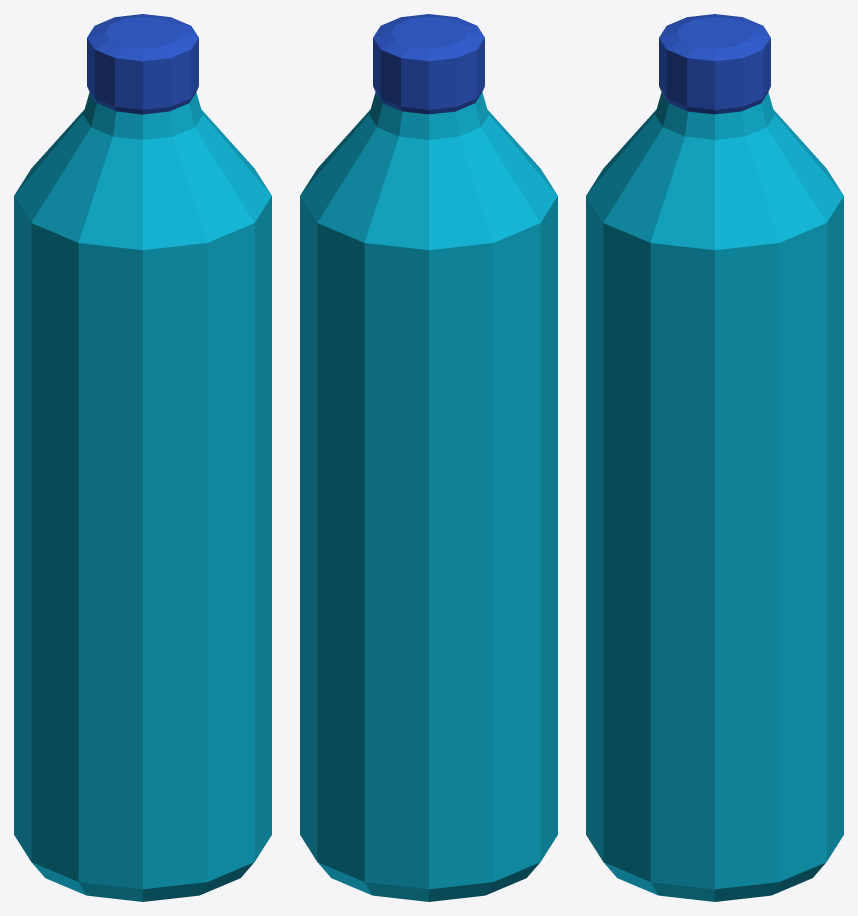
The model's file is bottle.fbx.
3 renders of one model, left to right at view 1: azimuth 30°, elevation 25°; view 2: azimuth 150°, elevation 25°; view 3: azimuth 270°, elevation 25°, orthographic.
Visible parts, largest first — view 1: Cylinder; view 2: Cylinder; view 3: Cylinder.
Boxes of the visible parts, x1,y1,x2,y2 form: Cylinder: [14, 14, 271, 901]; Cylinder: [300, 14, 557, 901]; Cylinder: [586, 14, 843, 901].
Size of the model in its own units: 288 by 1013 by 288.
